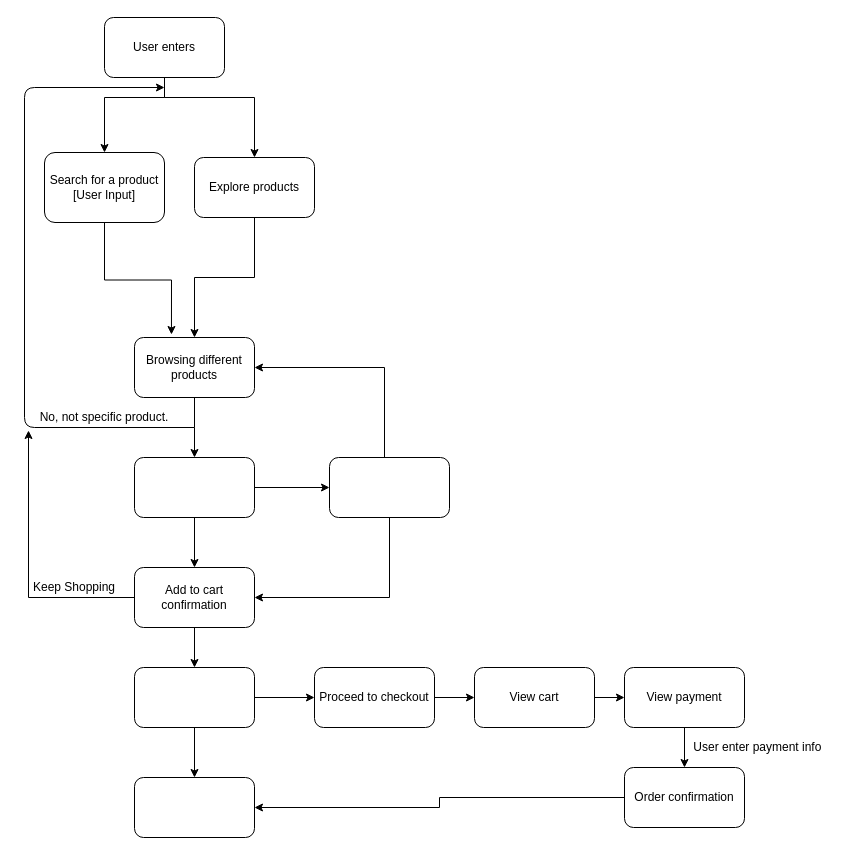
Some shapes in this 862 by 855 pixel diagram are drawn without their labels. Here are the shapes that lost their labels. From the top down, the centre of each, then its label:
point 194,487: View a specific product?
point 389,487: Product page
point 194,697: End browsing
point 194,807: Leave website
